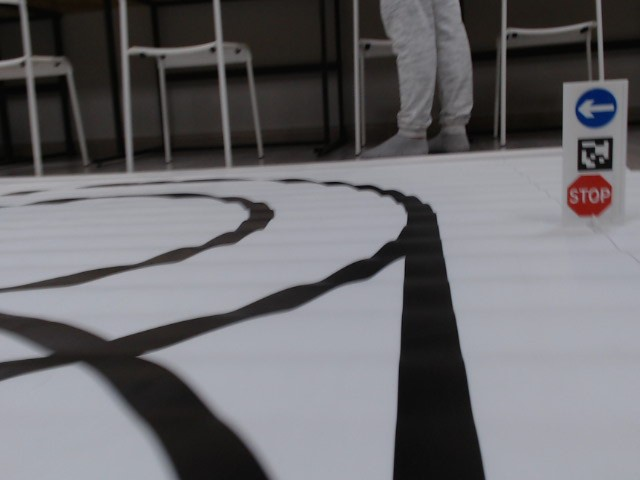Stop: (566, 174, 612, 215)
